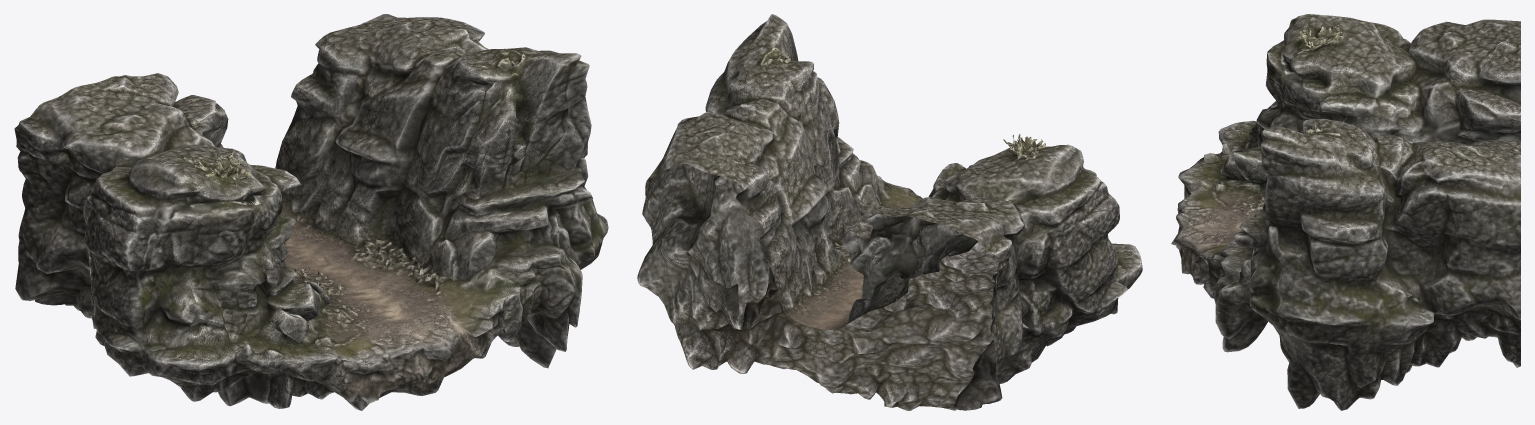
3 renders of one model, left to right at view 1: azimuth 30°, elevation 25°; view 2: azimuth 150°, elevation 25°; view 3: azimuth 270°, elevation 25°, orthographic. The views are drawn at different scales.
Bounding box in the file's own units: 16 × 10.15 × 11.4.
1 material, 1 textured.
